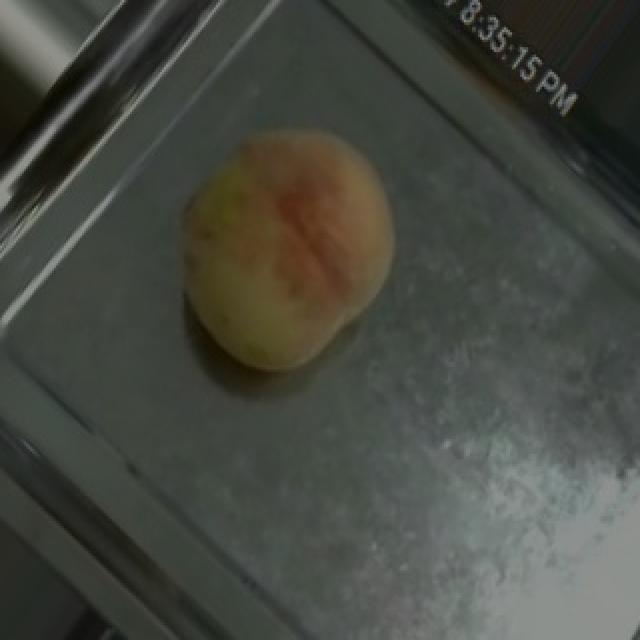Fruit: (126, 82, 446, 412)
